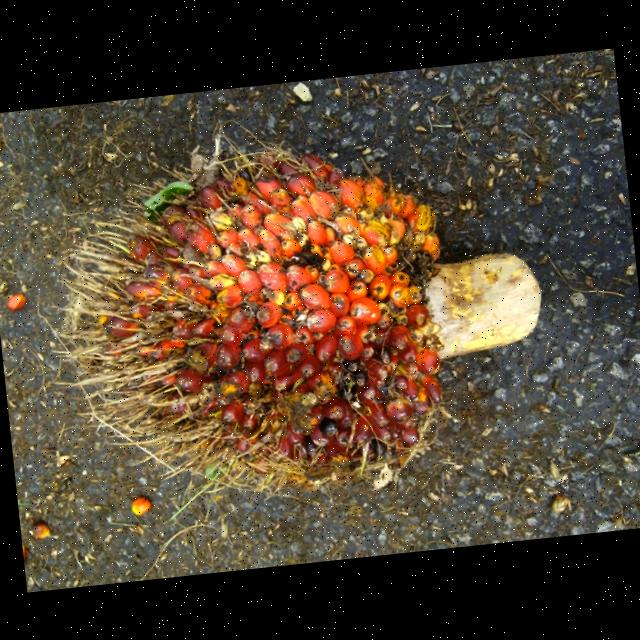Ripe: (81, 150, 458, 491)
